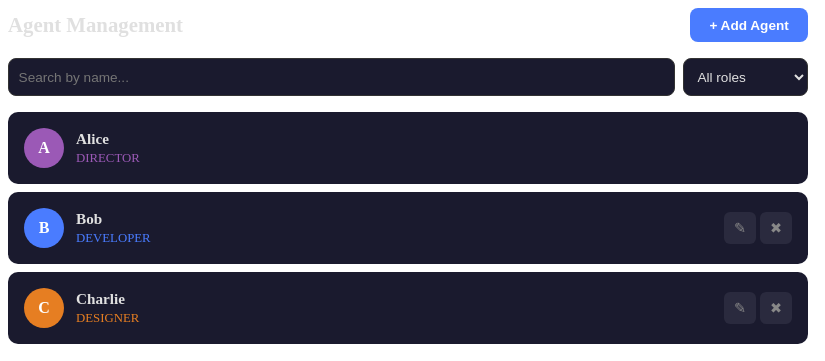
Test case: AgentsPage › filters by role
Expected: the text "Alice" is shown, top-left (76, 130), bottom-right (109, 147)
Select "DIRECTOR" in the dropdown at (745, 77), box top-left (683, 58), bottom-right (808, 96)
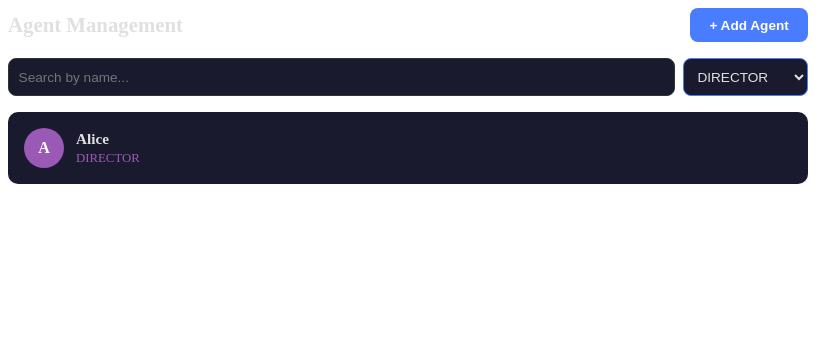
Expected: the text "Alice" is shown, top-left (76, 130), bottom-right (109, 147)
Expected: the text "Bob" is gone
